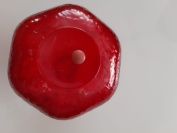Dolorex: (70, 49, 87, 65)
